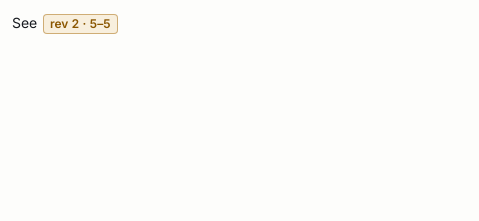
Test: previews only the cited lines and stays open while the pointer crosses to the card
Later steps or results of the test are not shown.
Hover over the button titled "evidence:source-one#R2L5-L5": (80, 24) [43, 14, 118, 34]
Wait 400 ms
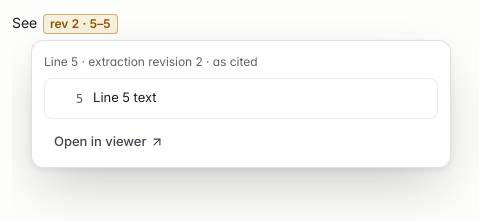
Expected: the text "Line 5 text" is shown, [93, 87, 156, 110]
Expected: the text "Line 5 · extraction revision 2 · as cited" is shown, [44, 54, 258, 69]
